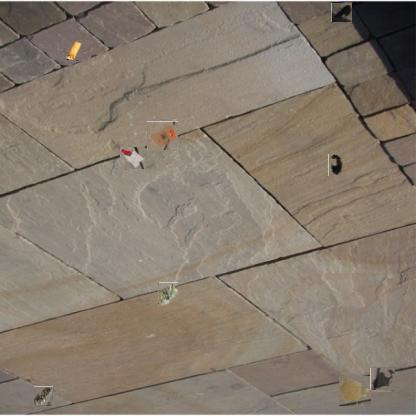dirty: (147, 120, 178, 151), (120, 146, 144, 170), (158, 282, 178, 307), (332, 2, 352, 23), (64, 40, 82, 61), (34, 386, 53, 405), (328, 154, 343, 176)
liquid: (339, 376, 371, 406), (371, 368, 395, 391)
